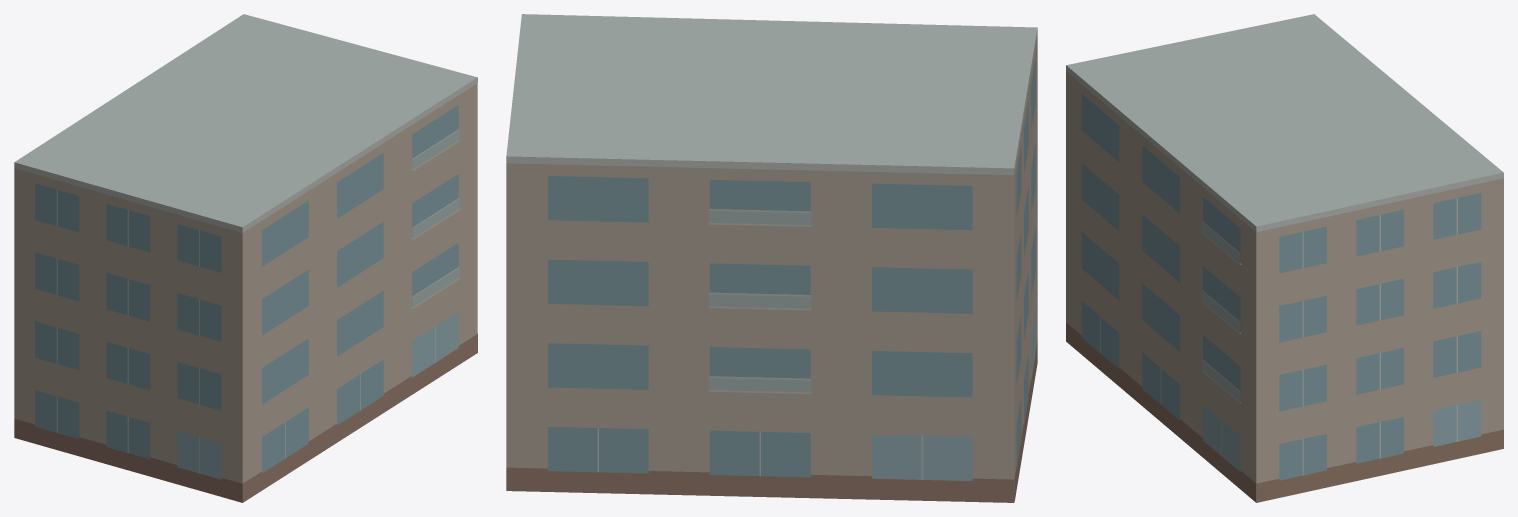
Rendered from survey-upis-32822719.glb.
The picture shows the model from 3 angles, left to right: view 1: azimuth 30°, elevation 25°; view 2: azimuth 150°, elevation 25°; view 3: azimuth 270°, elevation 25°; orthographic projection. The views are drawn at different scales.
Visible parts, largest first — view 1: survey-upis-32822719.tmp; view 2: survey-upis-32822719.tmp; view 3: survey-upis-32822719.tmp.
Boxes of the visible parts, left/top/right/bottom form: survey-upis-32822719.tmp: left=14, top=14, right=477, bottom=502; survey-upis-32822719.tmp: left=506, top=14, right=1037, bottom=502; survey-upis-32822719.tmp: left=1066, top=14, right=1503, bottom=502.
Bounding box in the file's own units: 19.49 × 11.8 × 16.95.
